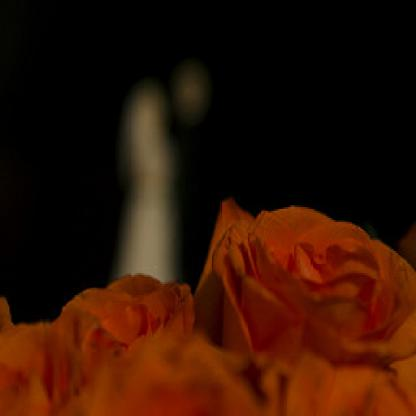ROSE-MAWAR: (1, 184, 416, 377)
